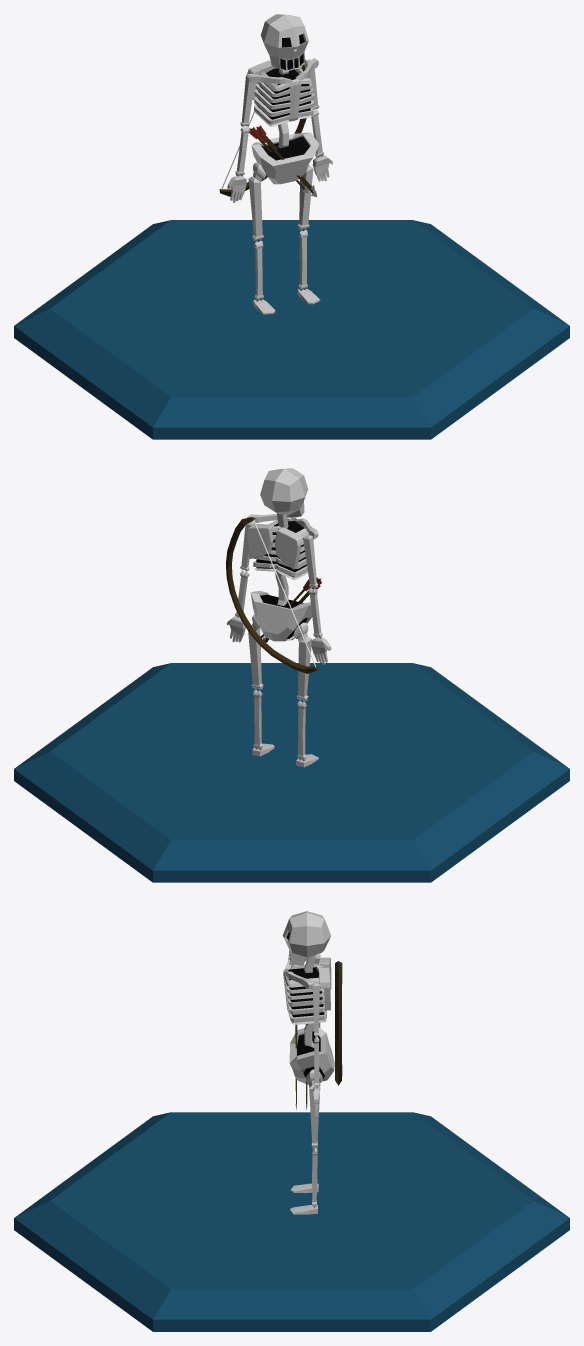
The model's file is Bow_Figure_Scalone.fbx.
3 renders of one model, top to bottom at view 1: azimuth 30°, elevation 25°; view 2: azimuth 150°, elevation 25°; view 3: azimuth 270°, elevation 25°, orthographic.
Parts seen in each view (by area): view 1: Bow; view 2: Bow; view 3: Bow.
Boxes of the visible parts, bbox=[...] form: Bow: bbox=[14, 14, 569, 439]; Bow: bbox=[14, 468, 569, 882]; Bow: bbox=[14, 911, 569, 1331].
Size of the model in its own units: 483 by 352 by 558.
